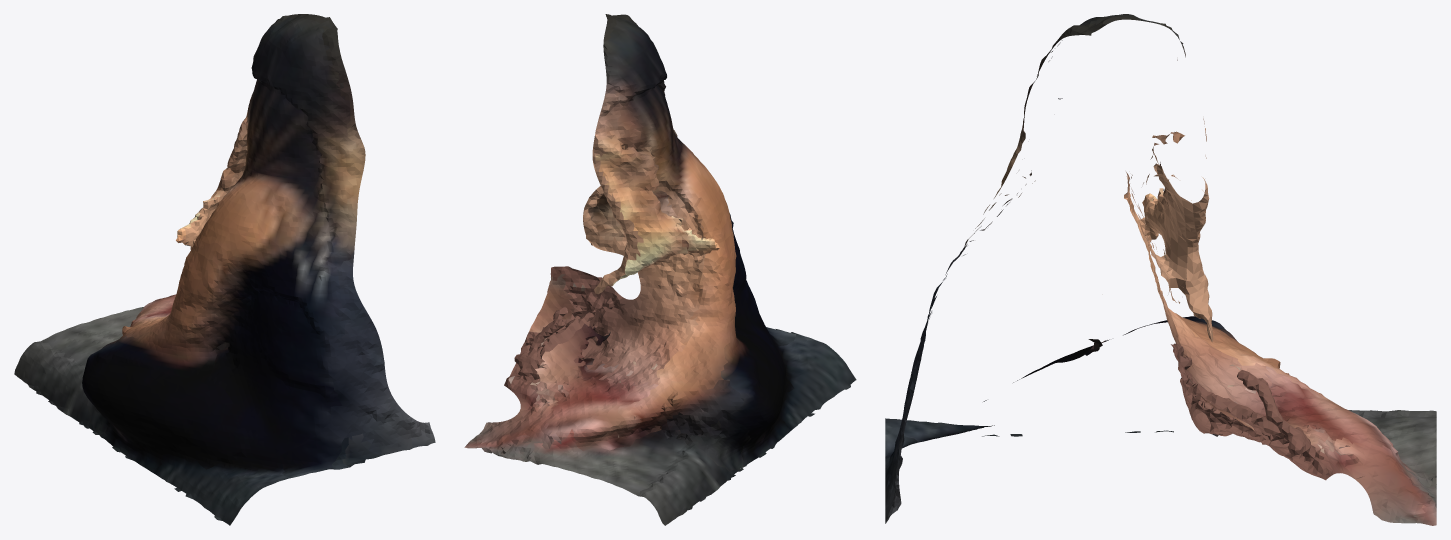
The picture shows the model from 3 angles, left to right: view 1: azimuth 30°, elevation 25°; view 2: azimuth 150°, elevation 25°; view 3: azimuth 270°, elevation 25°; orthographic projection. The views are drawn at different scales.
Size of the model in its own units: 0.4532 by 0.7533 by 0.7112.
1 material, 1 textured.
